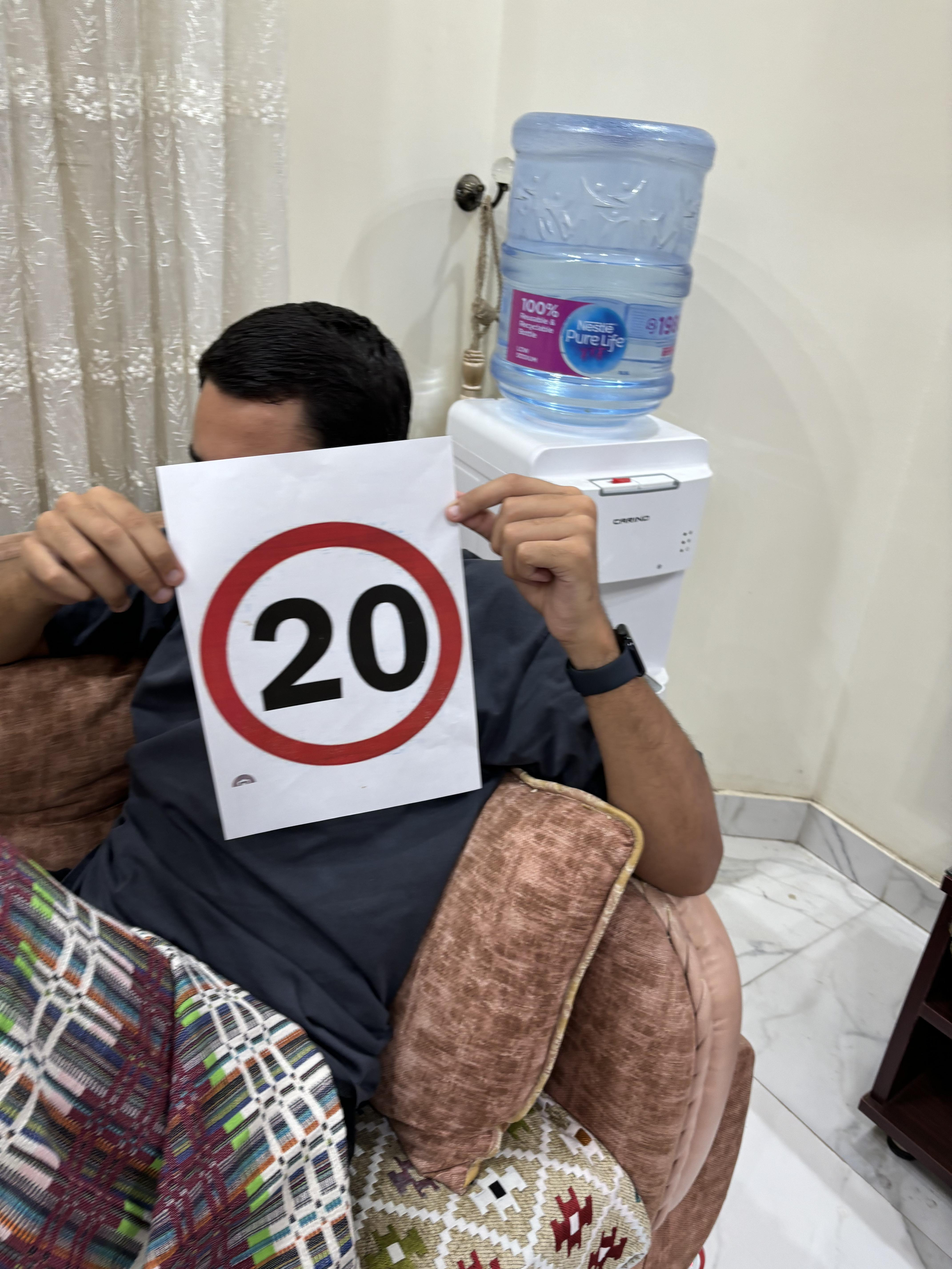20-Speed: (196, 511, 461, 762)
